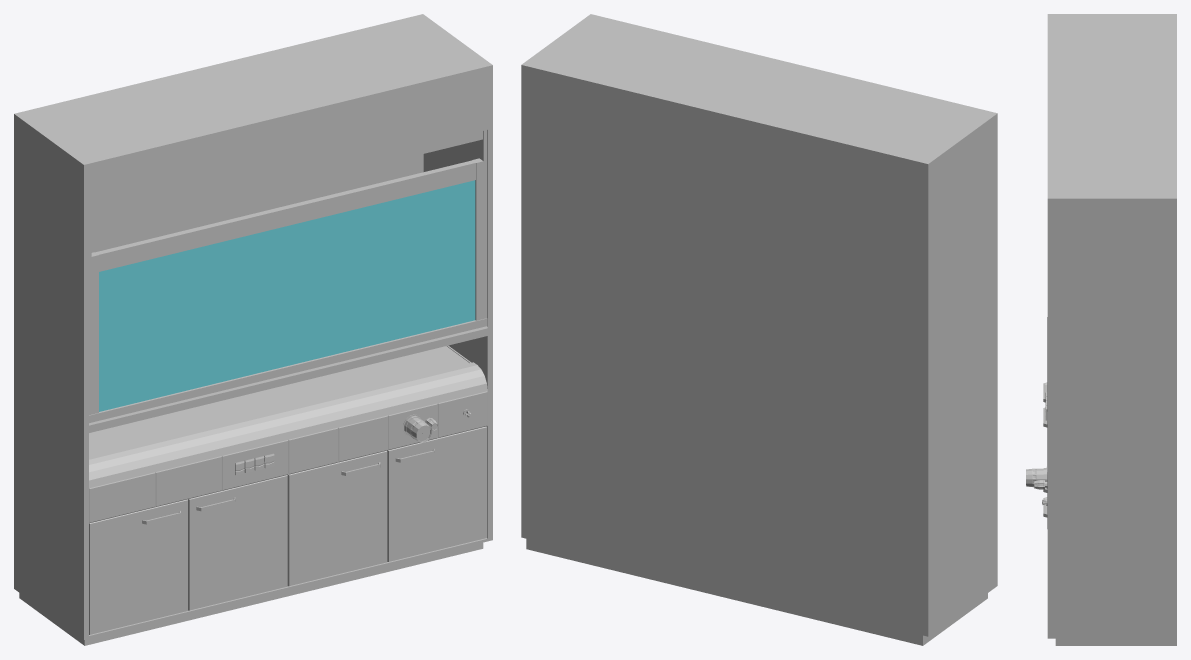
Rendered from SM_Laboratory_Table.gltf.
3 renders of one model, left to right at view 1: azimuth 30°, elevation 25°; view 2: azimuth 150°, elevation 25°; view 3: azimuth 270°, elevation 25°, orthographic. The views are drawn at different scales.
Visible parts, largest first — view 1: SM_Laboratory_Table, SM_Door_For_Laboratory_Table_03, SM_Door_For_Laboratory_Table_02, SM_Door_For_Laboratory_Table_04, SM_Door_For_Laboratory_Table_01; view 2: SM_Laboratory_Table; view 3: SM_Laboratory_Table.
Part boxes in pixels (box(x1,y1,x2,y2)): SM_Laboratory_Table: box(14, 14, 492, 645); SM_Door_For_Laboratory_Table_03: box(287, 450, 387, 586); SM_Door_For_Laboratory_Table_02: box(188, 475, 287, 610); SM_Door_For_Laboratory_Table_04: box(387, 426, 486, 561); SM_Door_For_Laboratory_Table_01: box(89, 499, 187, 634); SM_Laboratory_Table: box(521, 14, 997, 645); SM_Laboratory_Table: box(1026, 14, 1176, 645).
Size of the model in its own units: 2.03 by 2.3 by 0.6996.
